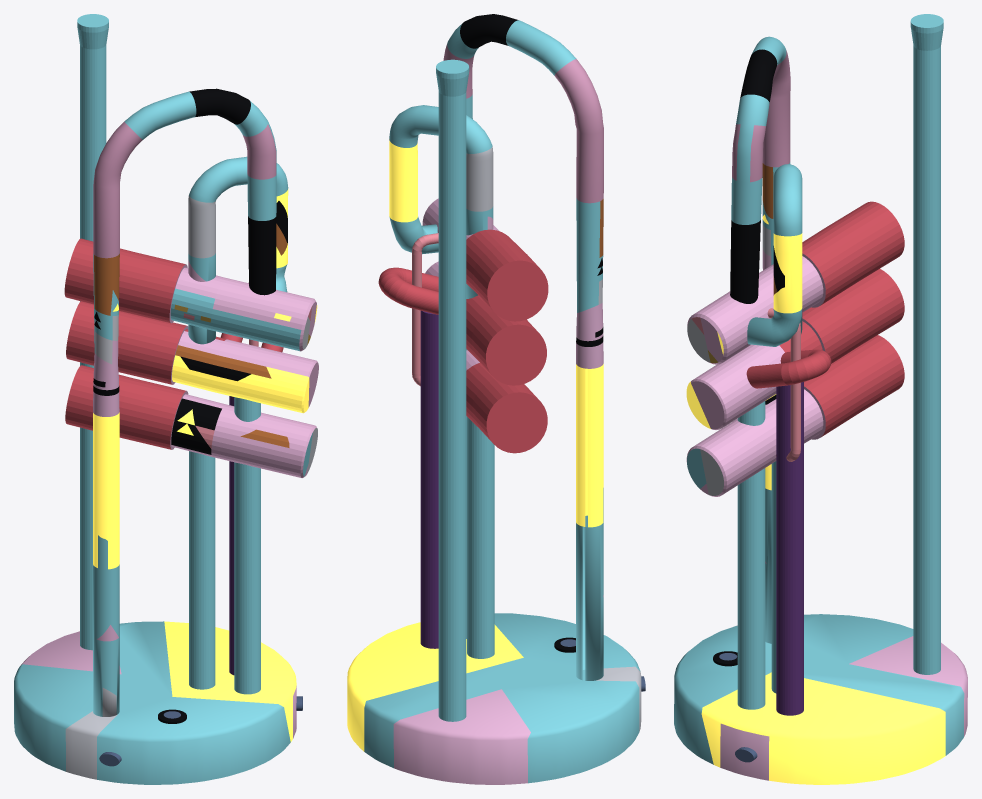
Rendered from MDel_2.glb.
3 renders of one model, left to right at view 1: azimuth 30°, elevation 25°; view 2: azimuth 150°, elevation 25°; view 3: azimuth 270°, elevation 25°, orthographic. The views are drawn at different scales.
Parts seen in each view (by area): view 1: Whole_installation; view 2: Whole_installation; view 3: Whole_installation.
Part boxes in pixels (x1,y1,x2,y2): Whole_installation: [14, 14, 318, 784]; Whole_installation: [347, 14, 645, 784]; Whole_installation: [674, 14, 967, 784].
Size of the model in its own units: 1.86 by 4.86 by 1.86.
